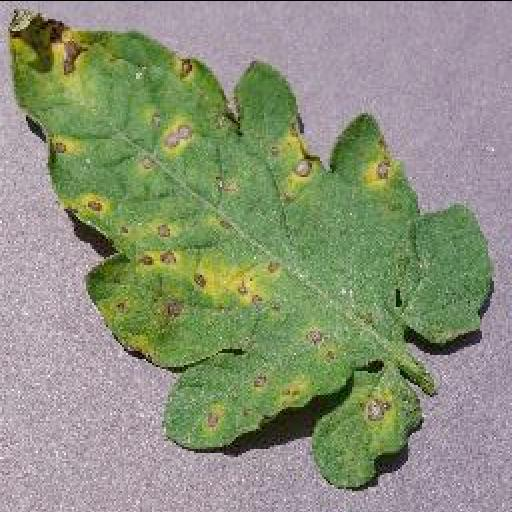disease_tomato: (8, 8, 494, 490)
